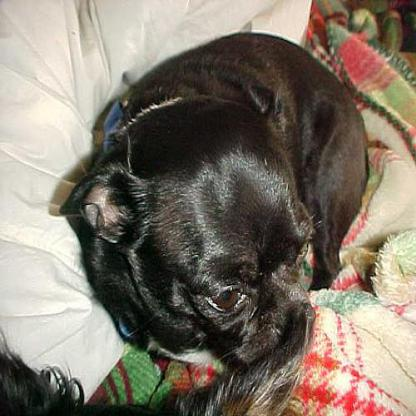dog: (76, 30, 366, 361)
